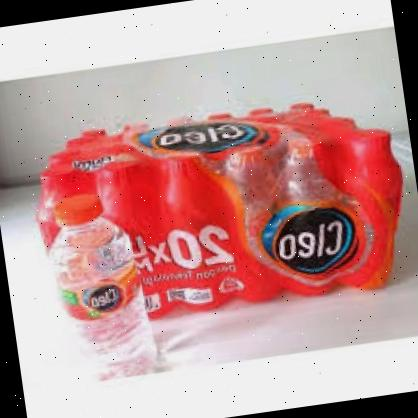bottle: (34, 175, 172, 397)
cap: (48, 190, 105, 238)
label: (56, 260, 152, 324)
